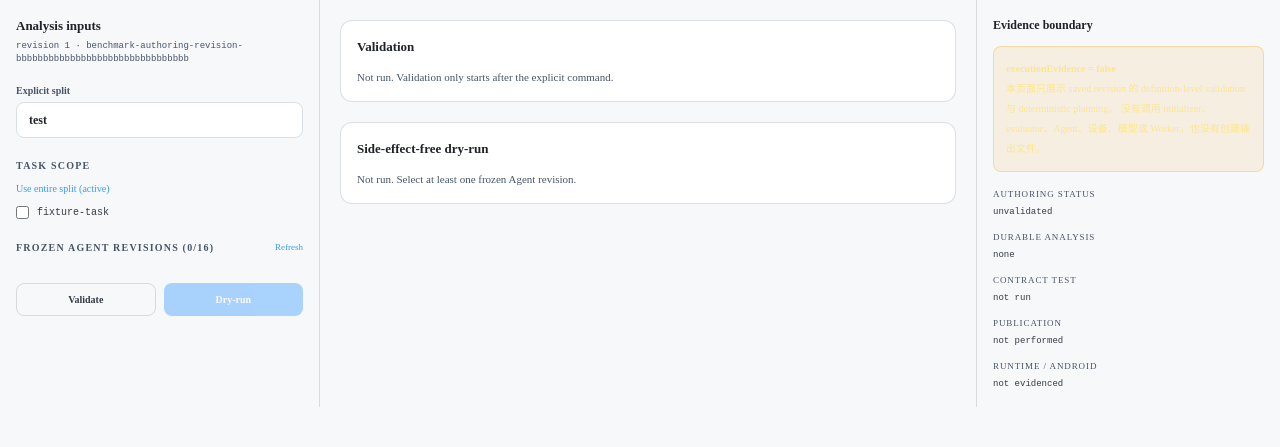
Test: BenchmarkValidationDryRunView › keeps a bounded capacity rejection as a non-result transport state
The width and height of the screenshot is (1280, 447).
Click the button "Validate": (86, 300) [16,283,156,316]
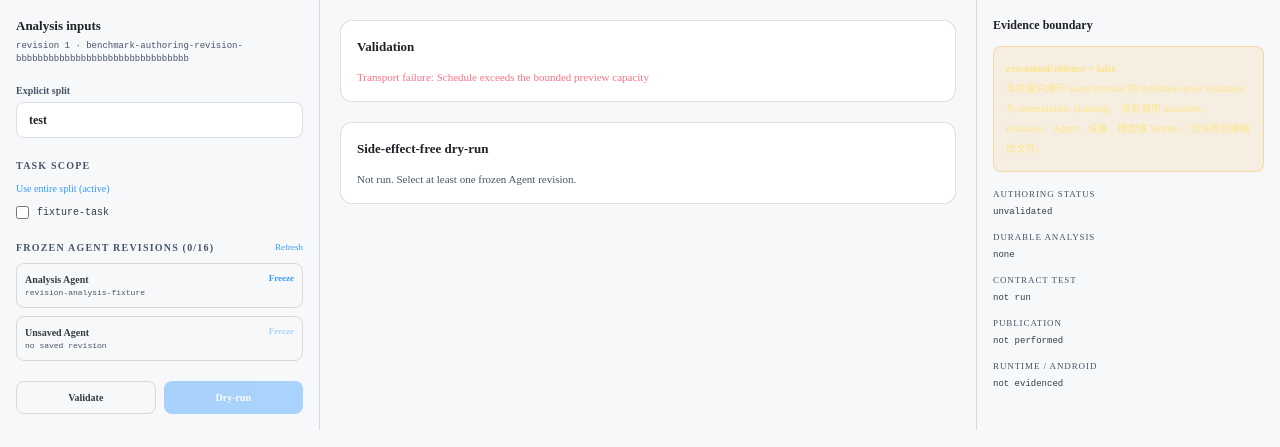
Expected: the text "Transport failure: Schedule exceeds the bounded preview capacity" is shown, [357,70,649,82]
